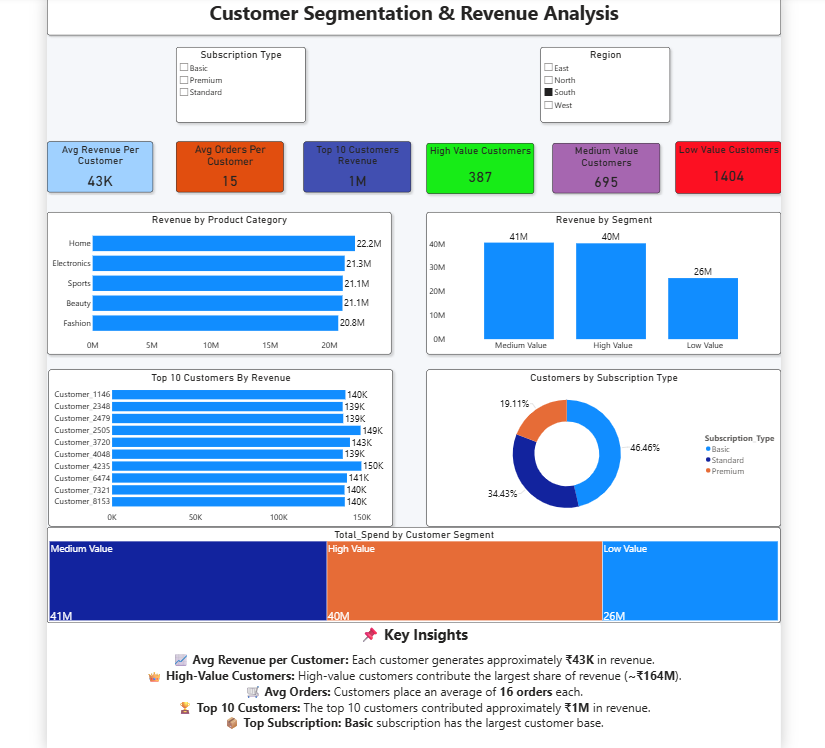

What the dashboard file says about the page in this screenshot:
{"tool":"powerbi","page":{"name":"Page 2","canvas":[3600,3700],"ordinal":1},"visuals":[{"type":"textbox","box":[0,0,3601.7,192.6],"z":0},{"type":"card","title":"Avg Revenue Per Customer","fields":{"Values":["customers.Avg Revenue Per Customer"]},"box":[0,713.2,520.6,249.6],"z":1000},{"type":"card","title":"Avg Orders Per Customer","fields":{"Values":["customers.Avg Orders Per Customer"]},"box":[634.8,713.2,527.8,249.6],"z":2000},{"type":"card","title":"High Value Customers","fields":{"Values":["customers.High Value Customers"]},"box":[1861.5,720.3,527.8,249.6],"z":3000},{"type":"card","title":"Medium Value Customers","fields":{"Values":["customers.Medium Value Customers"]},"box":[2477.1,723.6,527.8,246.9],"z":4000},{"type":"card","title":"Low Value Customers","fields":{"Values":["customers.Low Value Customers"]},"box":[3081.5,715,519.3,255.4],"z":5000},{"type":"card","title":"Top 10 Customers Revenue","fields":{"Values":["customers.Top 10 Revenue Customers"]},"box":[1262.4,713.2,527.8,249.6],"z":6000},{"type":"clusteredBarChart","title":" Revenue by Product Category","fields":{"Category":["customers.Product_Category"],"Y":["customers.Total Revenue"]},"box":[0,1062.7,1690.3,698.9],"z":7000},{"type":"lineStackedColumnComboChart","title":" Revenue by Segment","fields":{"Category":["customers.Customer Segment"],"Y":["customers.Total Revenue"]},"box":[1861.5,1062.7,1740.2,698.9],"z":8000},{"type":"clusteredBarChart","title":"Top 10 Customers  By Revenue ","fields":{"Category":["customers.Customer_Name"],"Y":["customers.Total Revenue"]},"box":[7.1,1832.9,1690.3,770.3],"z":9000},{"type":"donutChart","title":"Customers by Subscription Type","fields":{"Category":["customers.Subscription_Type"],"Y":["customers.Total Customers"]},"box":[1861.5,1832.9,1740.2,770.3],"z":10000},{"type":"treemap","title":" Total_Spend by Customer Segment","fields":{"Values":["Sum(customers.Total_Spend)"],"Group":["customers.Customer Segment"]},"box":[0,2603.2,3601.7,420.8],"z":11000},{"type":"slicer","title":"Subscription Type","fields":{"Values":["customers.Subscription_Type"]},"box":[636.1,249.6,636.1,370.4],"z":12000},{"type":"slicer","title":"Region","fields":{"Values":["customers.Region"]},"box":[2423.8,249.6,636.1,370.4],"z":13000},{"type":"textbox","box":[0,3021.9,3600.8,681],"z":14000}]}

Visuals, with their boxes on the page's 3600x3700 design canvas (x1, y1, x2, y2). These are canvas units, not pixel positions in the 825x748 screenshot, which may show the page scaled, cropped or inside an application window:
textbox: bbox(0, 0, 3602, 193)
"Avg Revenue Per Customer" card: bbox(0, 713, 521, 963)
"Avg Orders Per Customer" card: bbox(635, 713, 1163, 963)
"High Value Customers" card: bbox(1862, 720, 2389, 970)
"Medium Value Customers" card: bbox(2477, 724, 3005, 970)
"Low Value Customers" card: bbox(3082, 715, 3601, 970)
"Top 10 Customers Revenue" card: bbox(1262, 713, 1790, 963)
" Revenue by Product Category" clusteredBarChart: bbox(0, 1063, 1690, 1762)
" Revenue by Segment" lineStackedColumnComboChart: bbox(1862, 1063, 3602, 1762)
"Top 10 Customers  By Revenue " clusteredBarChart: bbox(7, 1833, 1697, 2603)
"Customers by Subscription Type" donutChart: bbox(1862, 1833, 3602, 2603)
" Total_Spend by Customer Segment" treemap: bbox(0, 2603, 3602, 3024)
"Subscription Type" slicer: bbox(636, 250, 1272, 620)
"Region" slicer: bbox(2424, 250, 3060, 620)
textbox: bbox(0, 3022, 3601, 3703)
